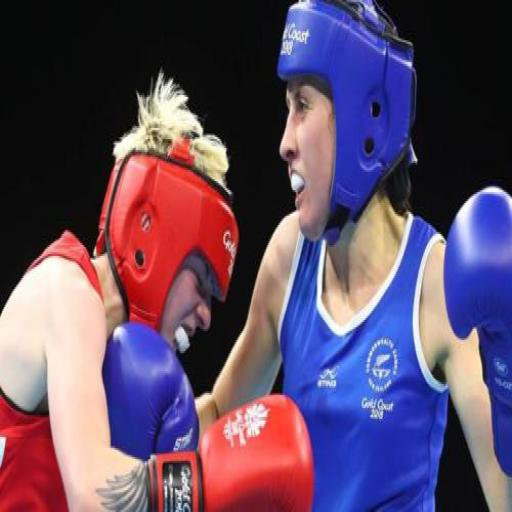boxing: (231, 0, 512, 512), (0, 69, 314, 508)
